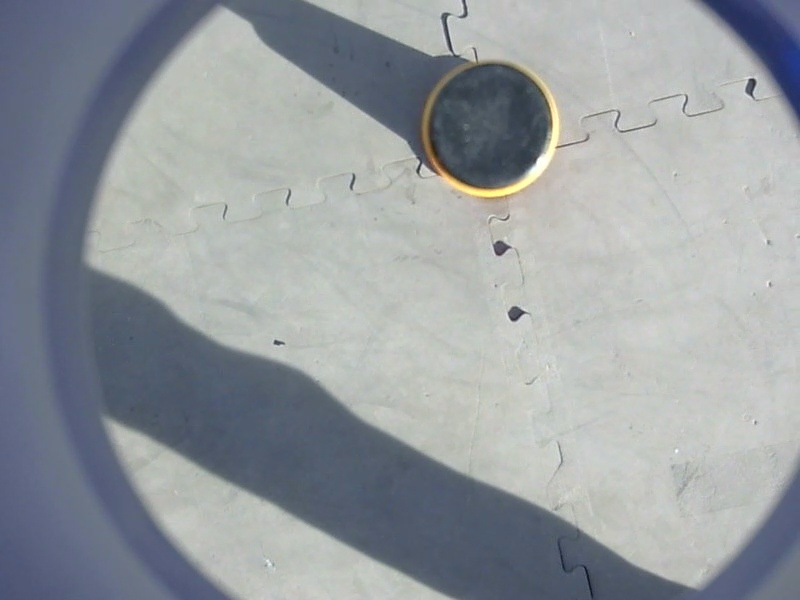tip: (414, 53, 567, 205)
